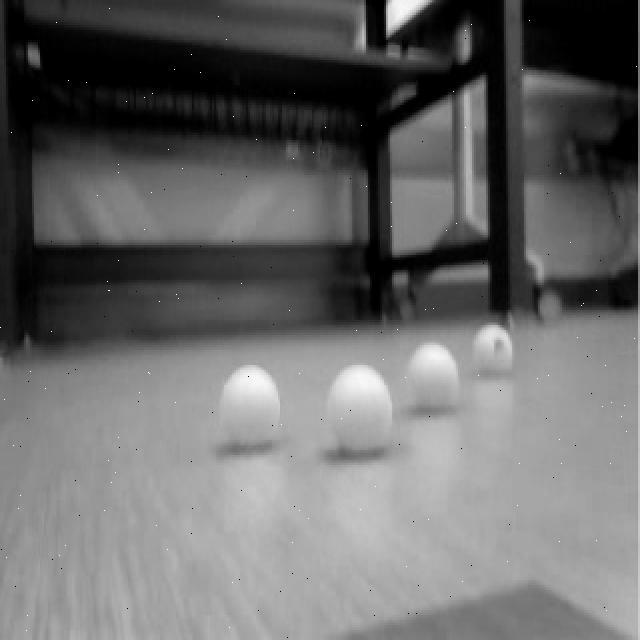ping-pong-ball: (326, 360, 400, 463), (220, 363, 285, 453), (402, 340, 464, 414), (474, 325, 514, 378)
